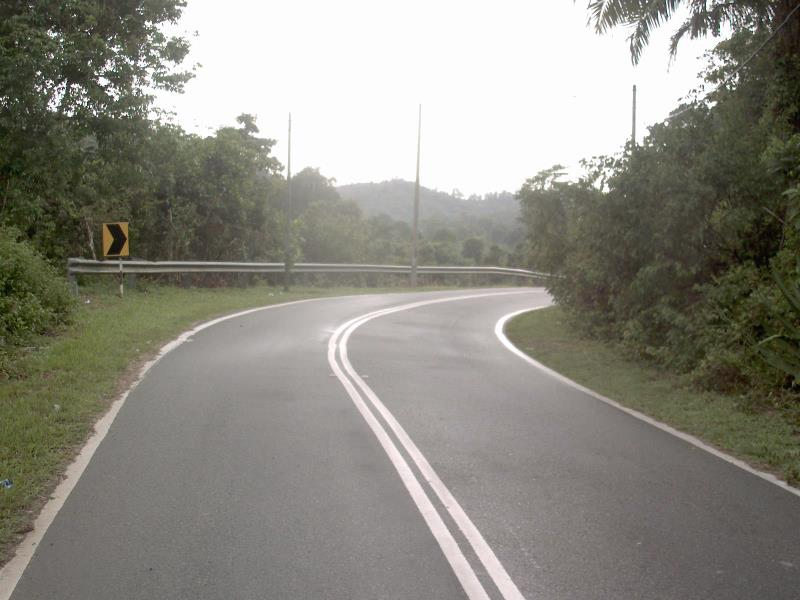traffic_sign: (94, 214, 136, 265)
